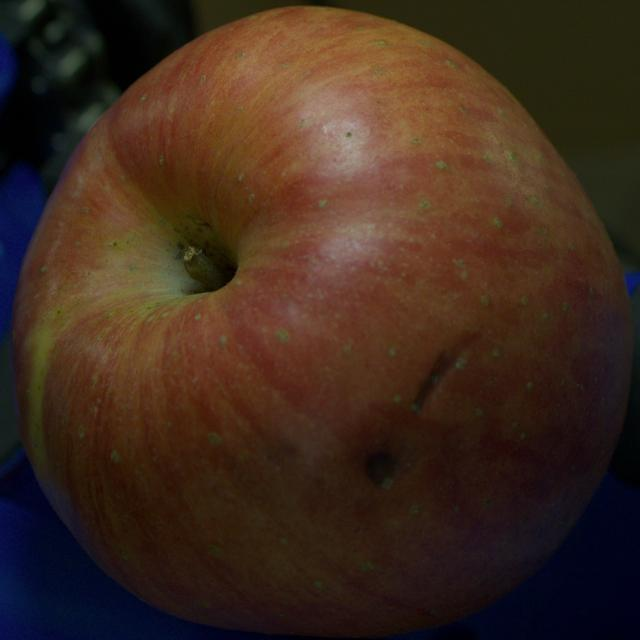apple: (13, 7, 632, 636)
bruise: (411, 336, 472, 414), (366, 451, 398, 488)
